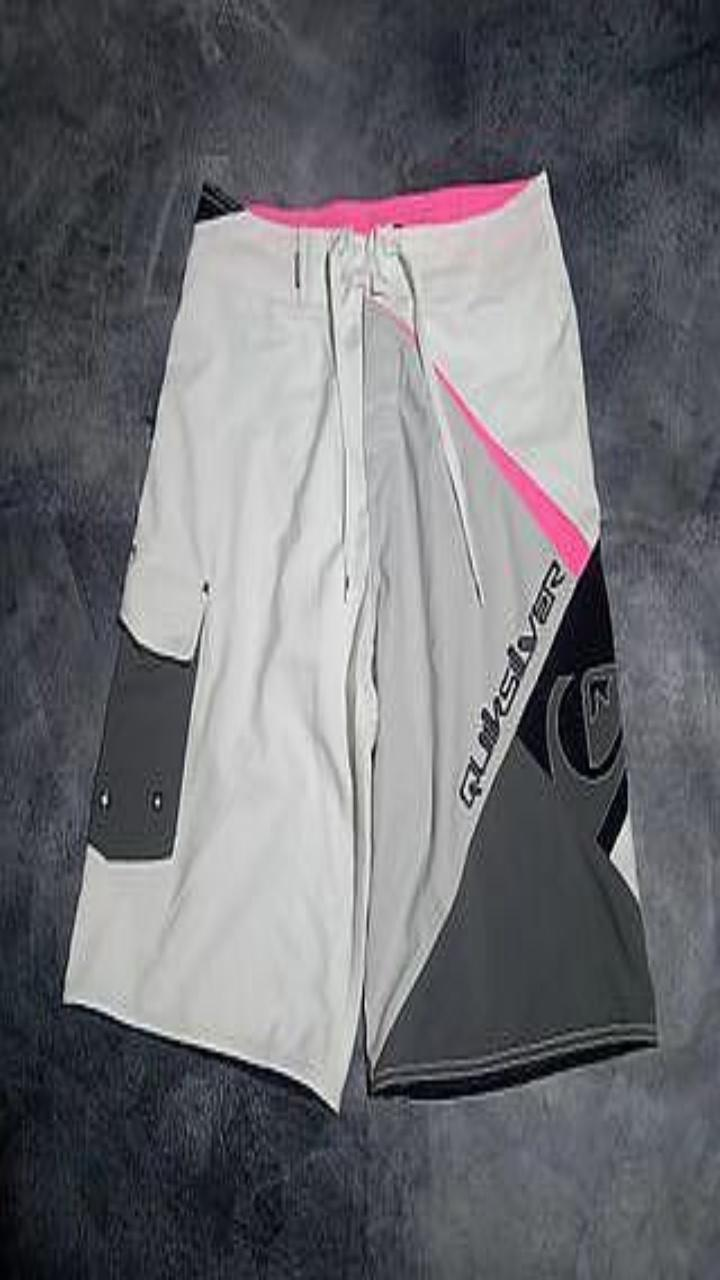Shorts: (63, 170, 656, 1110)
